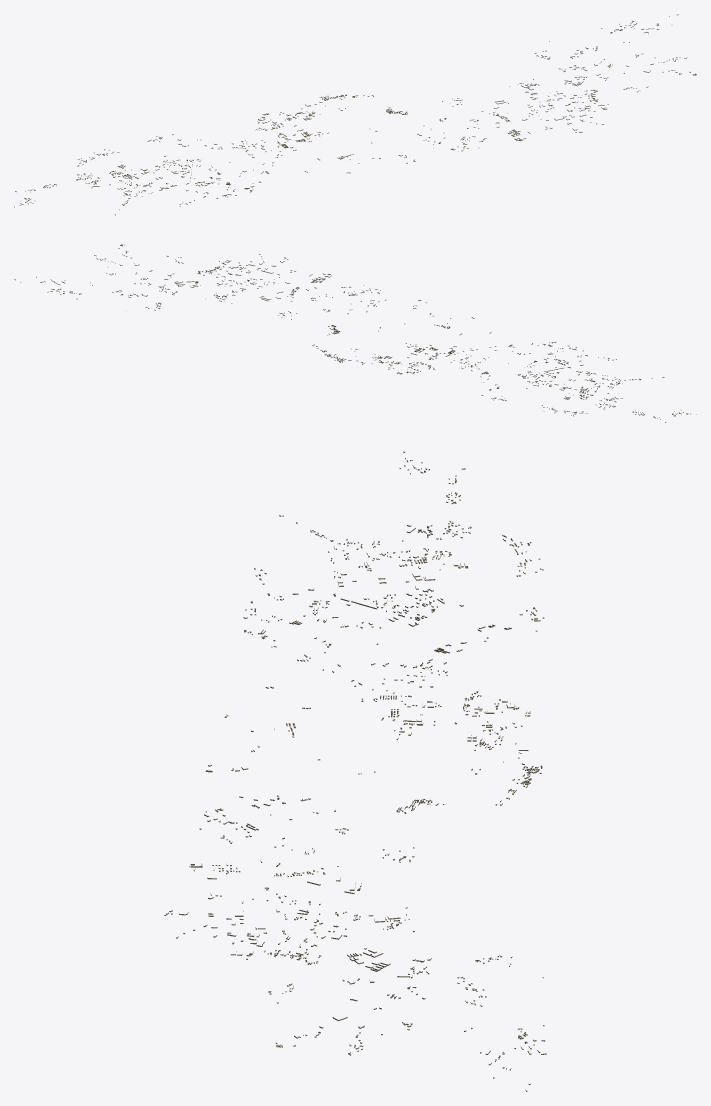
Rendered from NoLod_131.glb.
The picture shows the model from 3 angles, top to bottom: view 1: azimuth 30°, elevation 25°; view 2: azimuth 150°, elevation 25°; view 3: azimuth 270°, elevation 25°; orthographic projection. The views are drawn at different scales.
Visible parts, largest first — view 1: rtc; view 2: rtc; view 3: rtc.
Part boxes in pixels (bbox=[...]): rtc: bbox=[14, 14, 696, 215]; rtc: bbox=[14, 244, 696, 422]; rtc: bbox=[164, 451, 546, 1091].
Bounding box in the file's own units: 14225 × 62.76 × 3612.
1 material, 1 textured.
